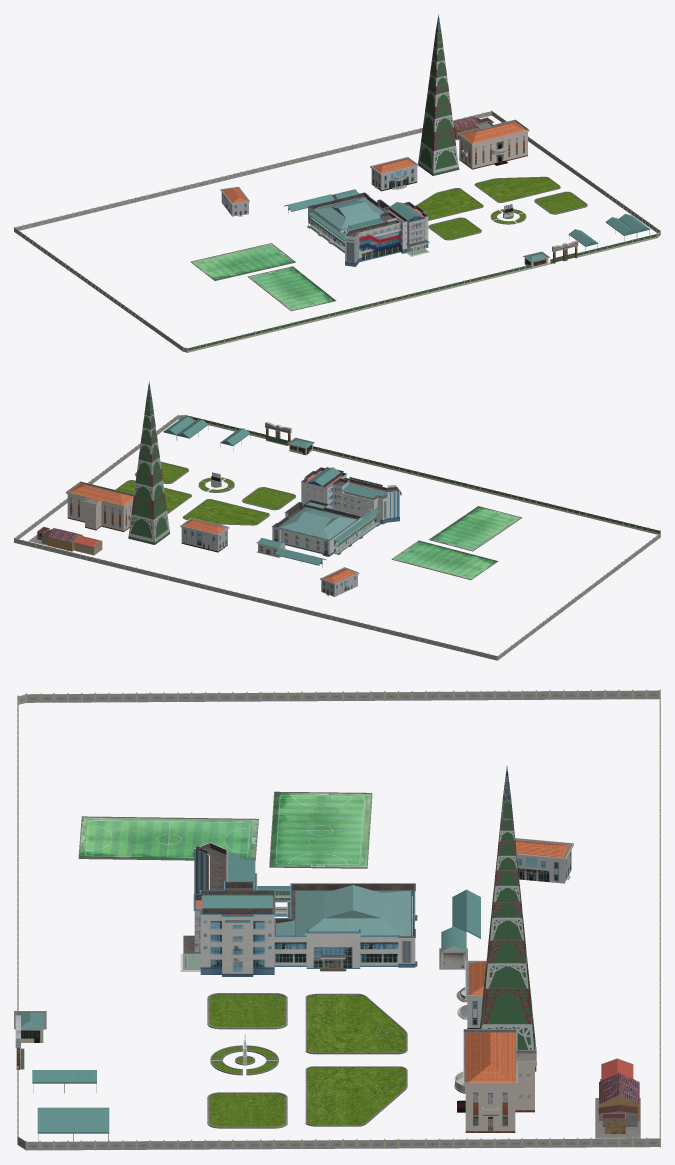
File: Dai Phat thanh - Truyen hinh va Bao Binh Phuoc.glb
3 renders of one model, top to bottom at view 1: azimuth 30°, elevation 25°; view 2: azimuth 150°, elevation 25°; view 3: azimuth 270°, elevation 25°, orthographic. The views are drawn at different scales.
Parts seen in each view (by area): view 1: 1, BPH053_3_4.001, 1-1, BPH053_2.002, BPH053_2, BPH053_5, BPH053_5.001, BPH053_2.001, BPH053_2.003, 1-2, BPH053_3_4; view 2: BPH053_3_4.001, 1, 1-1, BPH053_2.002, BPH053_5, BPH053_2, BPH053_5.001, BPH053_2.001, BPH053_2.003, BPH053_3_4, 1-2; view 3: BPH053_3_4.001, 1-1, 1, BPH053_5, BPH053_2.002, BPH053_5.001, BPH053_2, BPH053_2.003, BPH053_3_4, 1-2, BPH053_2.001, 1-3.
Part boxes in pixels (x1,y1,x2,y2): 1: (14,110,660,352); BPH053_3_4.001: (307,192,429,266); 1-1: (416,176,587,240); BPH053_2.002: (418,15,459,175); BPH053_2: (458,119,529,169); BPH053_5: (191,116,493,280); BPH053_5.001: (247,266,336,311); BPH053_2.001: (370,157,418,191); BPH053_2.003: (220,186,249,216); 1-2: (605,214,650,240); BPH053_3_4: (284,189,359,213); BPH053_3_4.001: (271,467,401,556); 1: (14,414,660,660); 1-1: (115,461,295,525); BPH053_2.002: (128,381,169,544); BPH053_5: (28,526,498,579); BPH053_2: (66,481,133,531); BPH053_5.001: (429,506,522,551); BPH053_2.001: (180,517,229,552); BPH053_2.003: (320,567,359,596); BPH053_3_4: (256,538,326,567); 1-2: (163,416,208,440); BPH053_3_4.001: (180,842,417,976); 1-1: (207,993,407,1128); 1: (14,689,660,1150); BPH053_5: (269,791,640,1138); BPH053_2.002: (479,766,536,1071); BPH053_5.001: (78,816,258,860); BPH053_2: (454,1029,536,1132); BPH053_2.003: (515,838,573,883); BPH053_3_4: (439,889,480,969); 1-2: (37,1107,109,1141); BPH053_2.001: (456,960,486,1028); 1-3: (32,1070,96,1093).
Size of the model in its own units: 257 by 78.11 by 155.
4 materials, 4 textured.
